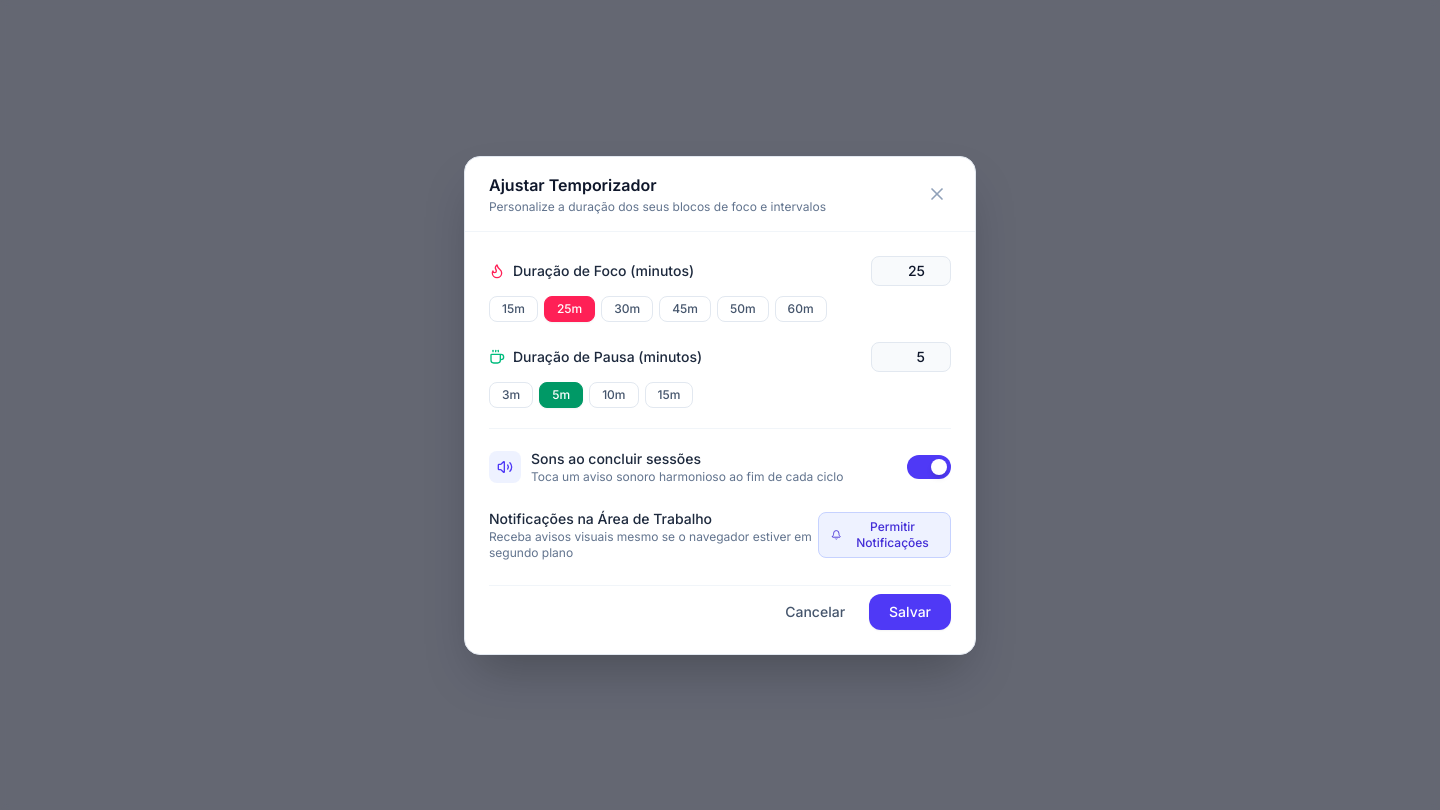
Test: PomodoroSettingsModal › solicita permissão de notificação ao clicar no botão correspondente
The width and height of the screenshot is (1440, 810).
What coordinates should you click on to do the following:
click the button "Permitir Notificações"
I would click on:
 (884, 534)
Its box is top-left (818, 512), bottom-right (951, 558).
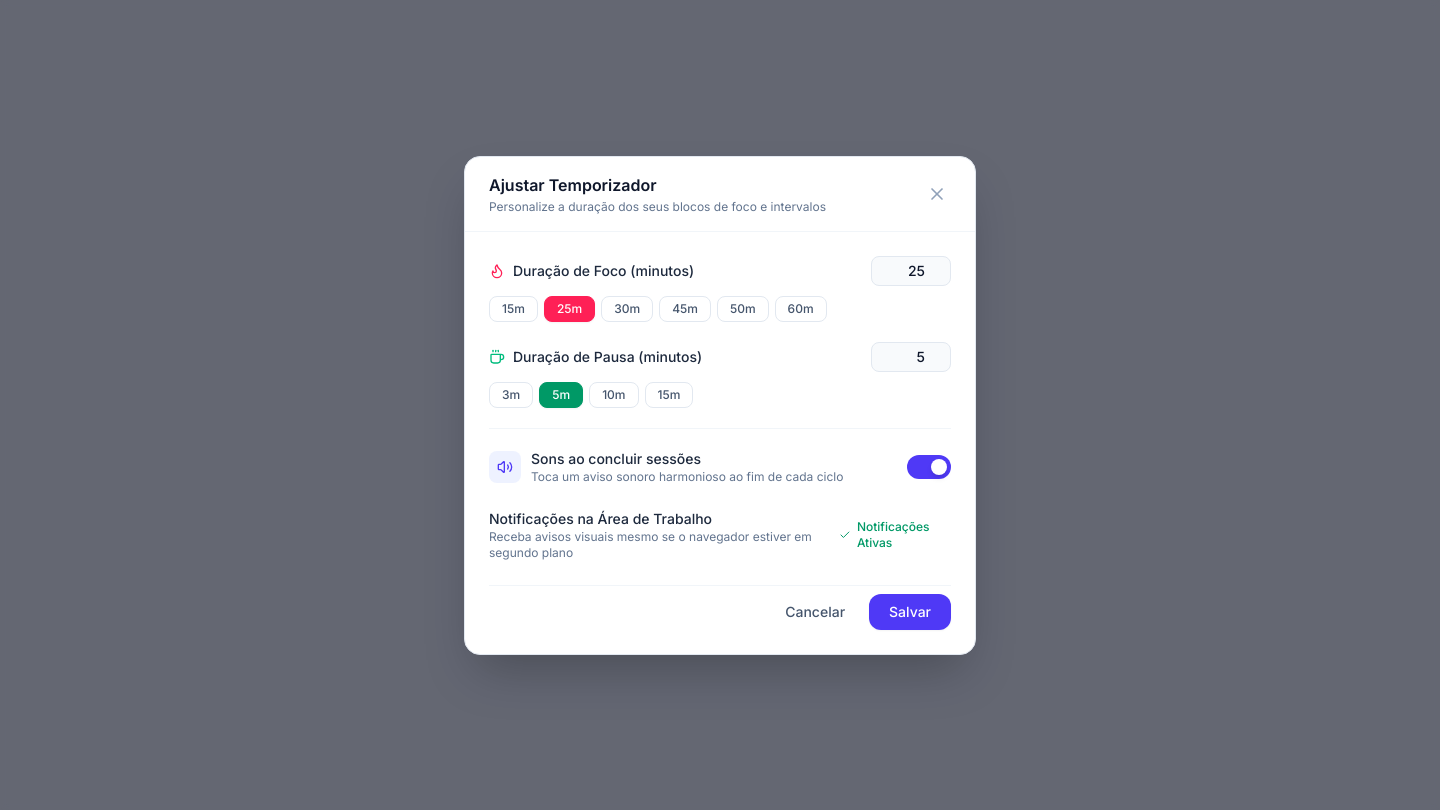
Expected: the text "Notificações Ativas" is shown, top-left (839, 518), bottom-right (929, 550)
